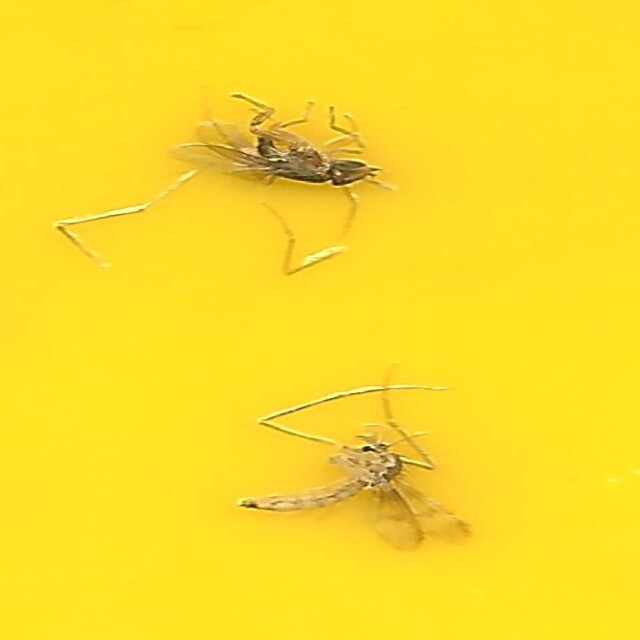Brachycera: (183, 97, 379, 199)
Nematocera: (238, 367, 457, 543)
